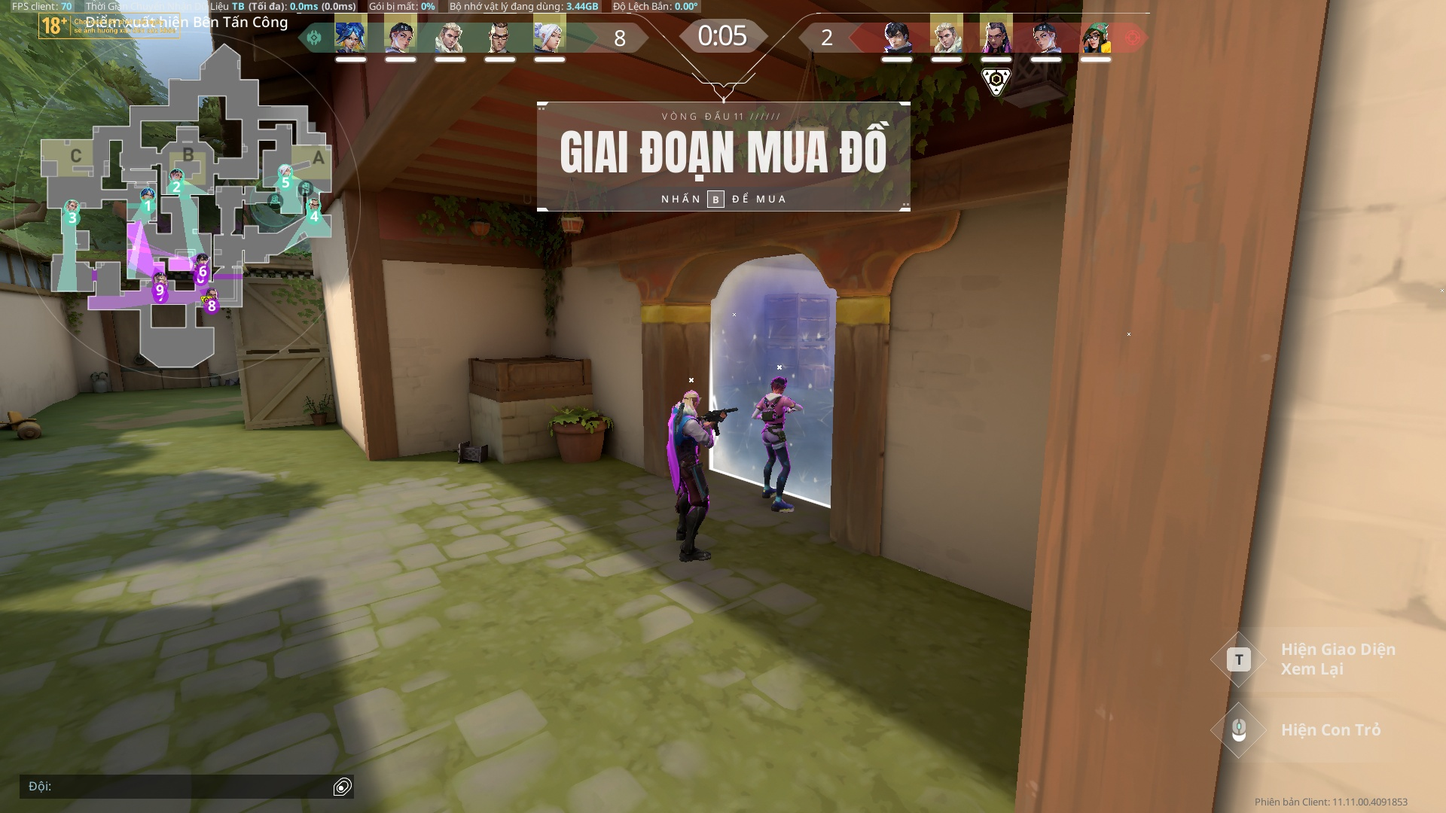body: (667, 410, 703, 461), (758, 390, 789, 426)
head: (682, 389, 702, 411), (770, 375, 786, 394)
